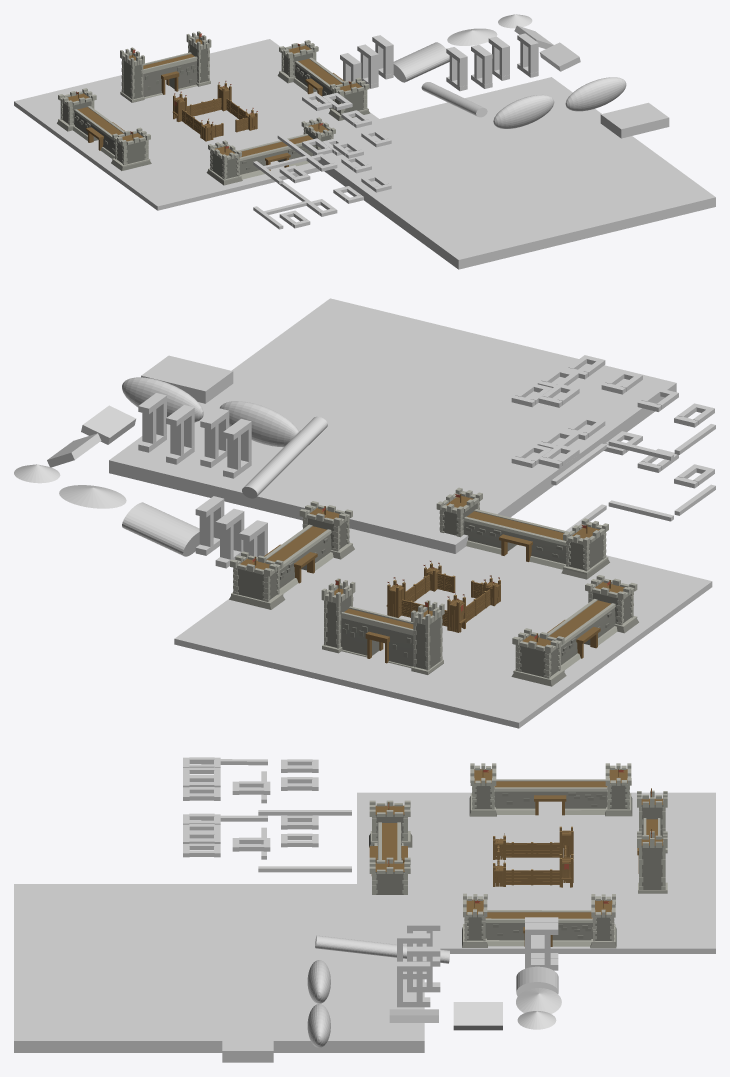
The model's file is maptest.glb.
3 renders of one model, top to bottom at view 1: azimuth 30°, elevation 25°; view 2: azimuth 150°, elevation 25°; view 3: azimuth 270°, elevation 25°, orthographic. The views are drawn at different scales.
Parts seen in each view (by area): view 1: 立方體.011, 立方體, part2, WallTowers_Door_SecondAge, WallTowers_Door_SecondAge.003, WallTowers_Door_SecondAge.004, WallTowers_Door_SecondAge.001, 立方體.020, WonderWalls_FirstAge; view 2: 立方體.011, 立方體, part2, WallTowers_Door_SecondAge.004, WallTowers_Door_SecondAge, WallTowers_Door_SecondAge.003, WallTowers_Door_SecondAge.001, 立方體.020, WonderWalls_FirstAge; view 3: 立方體.011, 立方體, part2, WallTowers_Door_SecondAge.003, WallTowers_Door_SecondAge.001, 立方體.020, WallTowers_Door_SecondAge.004, WonderWalls_FirstAge, WallTowers_Door_SecondAge, 立方體.001, 立方體.008, 立方體.010 (+2 smaller).
Part boxes in pixels (x1=…): 立方體.011: x1=313, y1=77, x2=715, y2=269; 立方體: x1=14, y1=39, x2=378, y2=210; part2: x1=340, y1=14, x2=669, y2=138; WallTowers_Door_SecondAge: x1=120, y1=31, x2=211, y2=102; WallTowers_Door_SecondAge.003: x1=57, y1=88, x2=151, y2=170; WallTowers_Door_SecondAge.004: x1=206, y1=117, x2=335, y2=185; WallTowers_Door_SecondAge.001: x1=277, y1=40, x2=370, y2=120; 立方體.020: x1=253, y1=92, x2=391, y2=184; WonderWalls_FirstAge: x1=172, y1=81, x2=257, y2=141; 立方體.011: x1=109, y1=298, x2=676, y2=553; 立方體: x1=174, y1=528, x2=712, y2=728; part2: x1=14, y1=355, x2=327, y2=568; WallTowers_Door_SecondAge.004: x1=436, y1=487, x2=609, y2=579; WallTowers_Door_SecondAge: x1=321, y1=578, x2=444, y2=674; WallTowers_Door_SecondAge.003: x1=511, y1=575, x2=638, y2=686; WallTowers_Door_SecondAge.001: x1=229, y1=501, x2=354, y2=609; 立方體.020: x1=511, y1=355, x2=715, y2=485; WonderWalls_FirstAge: x1=386, y1=561, x2=500, y2=632; 立方體.011: x1=14, y1=884, x2=424, y2=1052; 立方體: x1=357, y1=792, x2=715, y2=953; part2: x1=222, y1=917, x2=561, y2=1062; WallTowers_Door_SecondAge.003: x1=469, y1=763, x2=632, y2=816; WallTowers_Door_SecondAge.001: x1=462, y1=893, x2=616, y2=948; 立方體.020: x1=183, y1=757, x2=351, y2=815; WallTowers_Door_SecondAge.004: x1=369, y1=800, x2=412, y2=894; WonderWalls_FirstAge: x1=493, y1=826, x2=573, y2=887; WallTowers_Door_SecondAge: x1=637, y1=788, x2=667, y2=893; 立方體.001: x1=258, y1=866, x2=351, y2=872; 立方體.008: x1=232, y1=837, x2=270, y2=851; 立方體.010: x1=281, y1=815, x2=318, y2=829.
Size of the model in its own units: 60.16 by 11.87 by 63.94.
